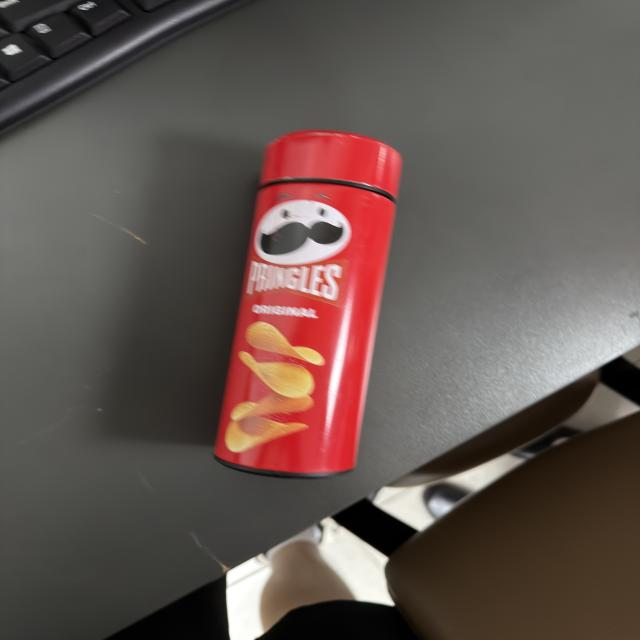water bottle: (215, 130, 402, 478)
